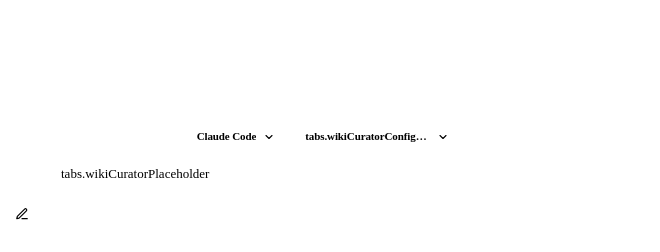
WikiCuratorComposer reutiliza el shell del composer › clear tras error y done elimina todo lo visible y la key de localStorage
Type "otro fallo" into the text box named "tabs.wikiCuratorInputLabel".
click(323, 195); type("otro fallo")  # box top-left (47, 155), bottom-right (599, 235)
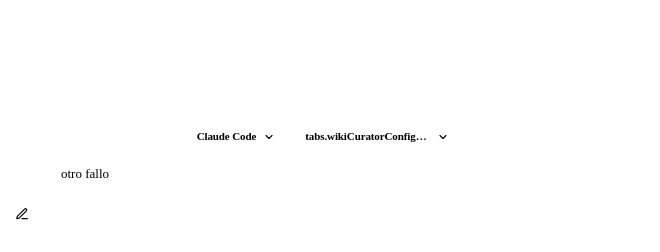
Press Enter in the text box named "tabs.wikiCuratorInputLabel", box top-left (47, 155), bottom-right (599, 235)
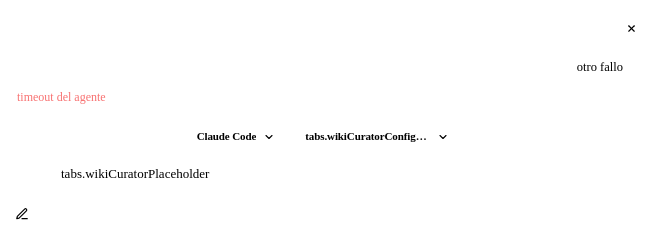
Expected: the text "otro fallo" is shown, top-left (577, 60), bottom-right (623, 74)
Expected: the text "timeout del agente" is shown, top-left (17, 90), bottom-right (106, 104)
Click the button named "tabs.wikiCuratorHistoryClear".
click(631, 28)  # box top-left (619, 16), bottom-right (643, 40)
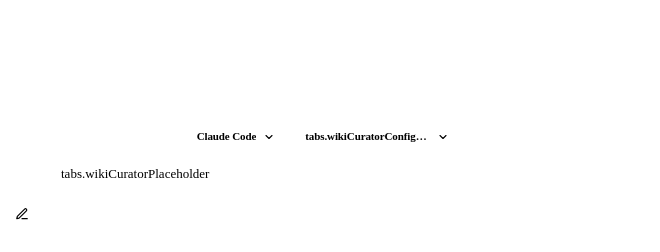
Expected: the text "otro fallo" is gone
Expected: the text "timeout del agente" is gone
